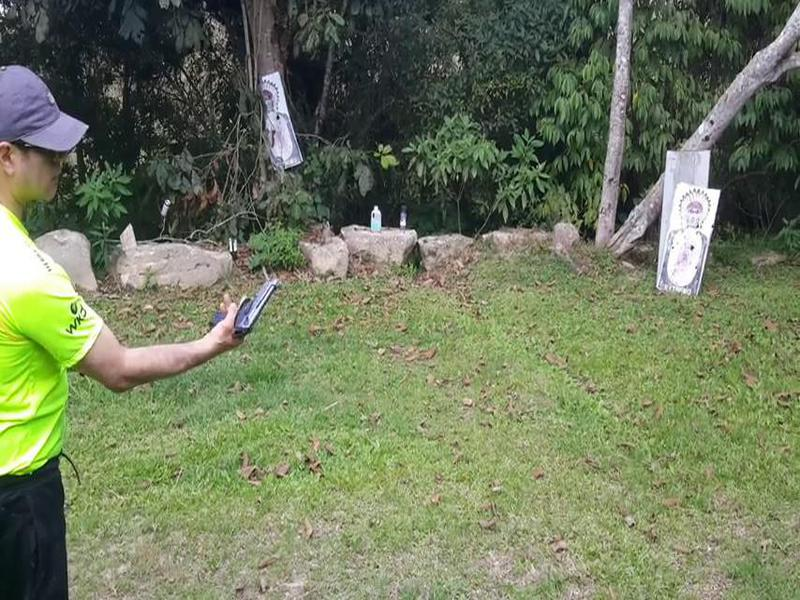Pistola: (208, 271, 284, 344)
